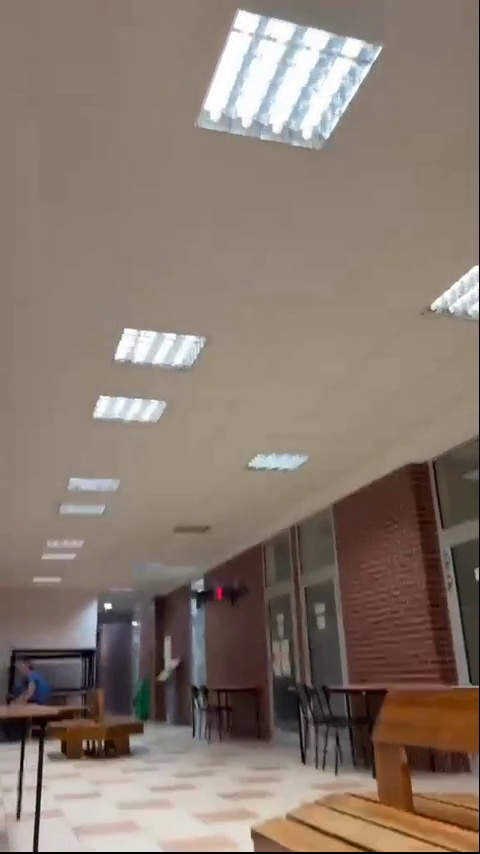drone: (189, 586, 249, 607)
no vest: (13, 660, 51, 708)
